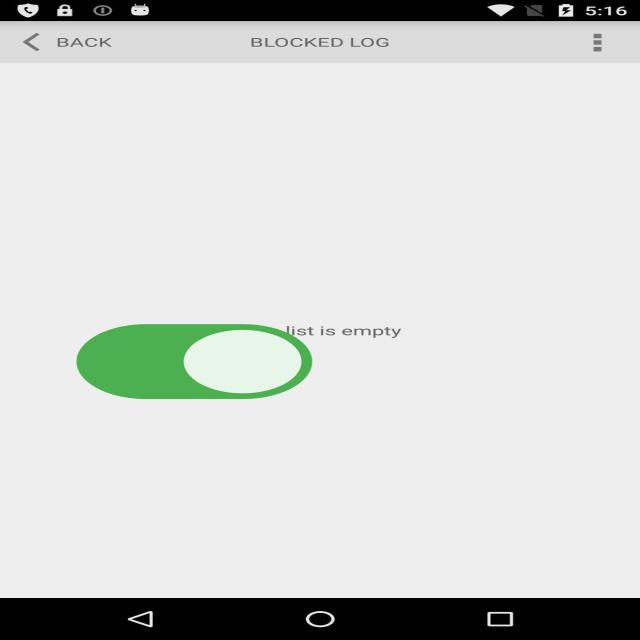social proof: (66, 295, 323, 434)
